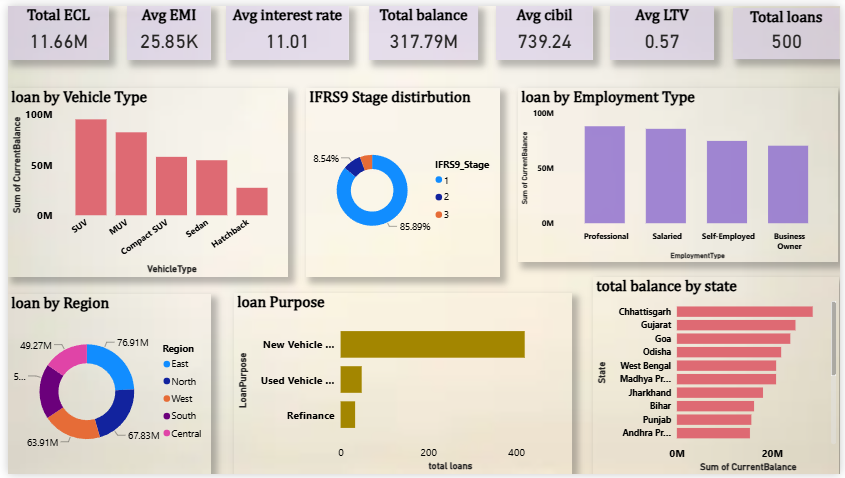

The dashboard page shown, as its layout file describes it:
{"tool":"powerbi","page":{"name":"executive dashboard","canvas":[1280,720],"ordinal":0},"visuals":[{"type":"kpi","title":"Total loans","fields":{"Indicator":["loans.total loans"],"TrendLine":["Date.Date"]},"box":[1115.5,3.4,163.8,79.3],"z":0},{"type":"kpi","title":"Total balance ","fields":{"Indicator":["loans.total balance"],"TrendLine":["Date.Date"]},"box":[555.4,0,167.7,83.1],"z":1000},{"type":"kpi","title":"Avg interest rate","fields":{"Indicator":["loans.avg interest rate"],"TrendLine":["Date.Date"]},"box":[335.4,0,189.2,83.1],"z":2000},{"type":"kpi","title":"Avg EMI","fields":{"Indicator":["loans.avg EMI"],"TrendLine":["Date.Date"]},"box":[183.1,0,129.2,83.1],"z":3000},{"type":"kpi","title":"Avg LTV ","fields":{"Indicator":["loans.avg LTV"],"TrendLine":["Date.Date"]},"box":[926.2,0,160,83.1],"z":4000},{"type":"kpi","title":"Avg cibil  ","fields":{"Indicator":["loans.avg cibil"],"TrendLine":["Date.Date"]},"box":[750.8,0,149.2,83.1],"z":5000},{"type":"clusteredBarChart","title":"loan Purpose","fields":{"Category":["loans.LoanPurpose"],"Y":["loans.total loans"]},"box":[347.7,441.5,520,278.5],"z":6000},{"type":"donutChart","title":"loan by Region","fields":{"Category":["loans.Region"],"Y":["Sum(loans.CurrentBalance)"]},"box":[0,443.3,311.7,276.7],"z":7000},{"type":"barChart","title":"total balance by state","fields":{"Category":["loans.State"],"Y":["Sum(loans.CurrentBalance)"]},"box":[900,416.7,379.2,304.2],"z":8000},{"type":"clusteredColumnChart","title":"loan by Employment Type","fields":{"Y":["Sum(loans.CurrentBalance)"],"Category":["loans.EmploymentType"]},"box":[784.7,126.4,493.1,268.1],"z":9000},{"type":"donutChart","title":"IFRS9 Stage distirbution ","fields":{"Y":["Sum(loans.CurrentBalance)"],"Category":["loans.IFRS9_Stage"]},"box":[458.5,126.2,298.5,290.8],"z":10000},{"type":"kpi","title":"Total ECL ","fields":{"Indicator":["loans.total ECL"],"TrendLine":["Date.Date"]},"box":[0,0,155.4,83.1],"z":11000},{"type":"clusteredColumnChart","title":"loan by Vehicle Type","fields":{"Category":["loans.VehicleType"],"Y":["Sum(loans.CurrentBalance)"]},"box":[0,126.2,430.8,290.8],"z":12000}]}

Visuals, with their boxes in screenshot pixels (x1, y1, x2, y2), scaled from the page's 1280x720 canvas onto the 845x478 screenshot:
"Total loans" kpi: [left=736, top=2, right=844, bottom=55]
"Total balance " kpi: [left=367, top=0, right=477, bottom=55]
"Avg interest rate" kpi: [left=221, top=0, right=346, bottom=55]
"Avg EMI" kpi: [left=121, top=0, right=206, bottom=55]
"Avg LTV " kpi: [left=611, top=0, right=717, bottom=55]
"Avg cibil  " kpi: [left=496, top=0, right=594, bottom=55]
"loan Purpose" clusteredBarChart: [left=230, top=293, right=573, bottom=477]
"loan by Region" donutChart: [left=0, top=294, right=206, bottom=477]
"total balance by state" barChart: [left=594, top=277, right=844, bottom=477]
"loan by Employment Type" clusteredColumnChart: [left=518, top=84, right=844, bottom=262]
"IFRS9 Stage distirbution " donutChart: [left=303, top=84, right=500, bottom=277]
"Total ECL " kpi: [left=0, top=0, right=103, bottom=55]
"loan by Vehicle Type" clusteredColumnChart: [left=0, top=84, right=284, bottom=277]
